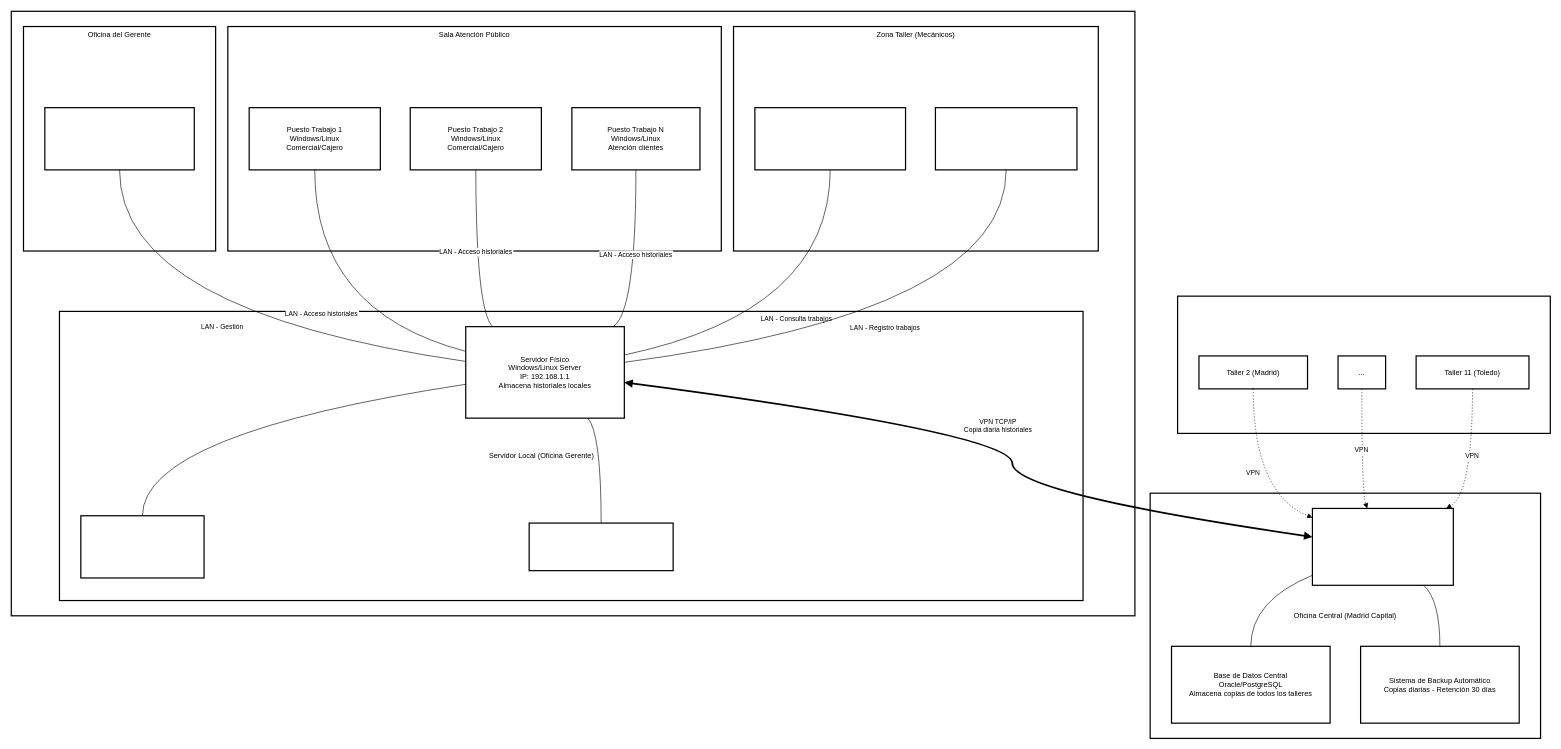
Image size: 1561x749. Some labels were removed from this diagram. The shapes that lost their labels are listed below. From the top down, each one's centre as x and y in pixels, then its label:
At (119,138): "Ordenador Gerente Windows/Linux Gestión productividad".
At (830,138): "Terminal Mecánico 1 Windows/Tablet Consulta presupuestos".
At (1006,138): "Terminal Mecánico 2 Windows/Tablet Registro finalización".
At (142,546): "Base de Datos Local MySQL/PostgreSQL Datos del taller".
At (600,546): "Aplicación Servidor Java - Lógica de negocio".
At (1383,547): "Servidor Central (Windows/Linux Server) IP: 10.0.0.1 Backup diario".
